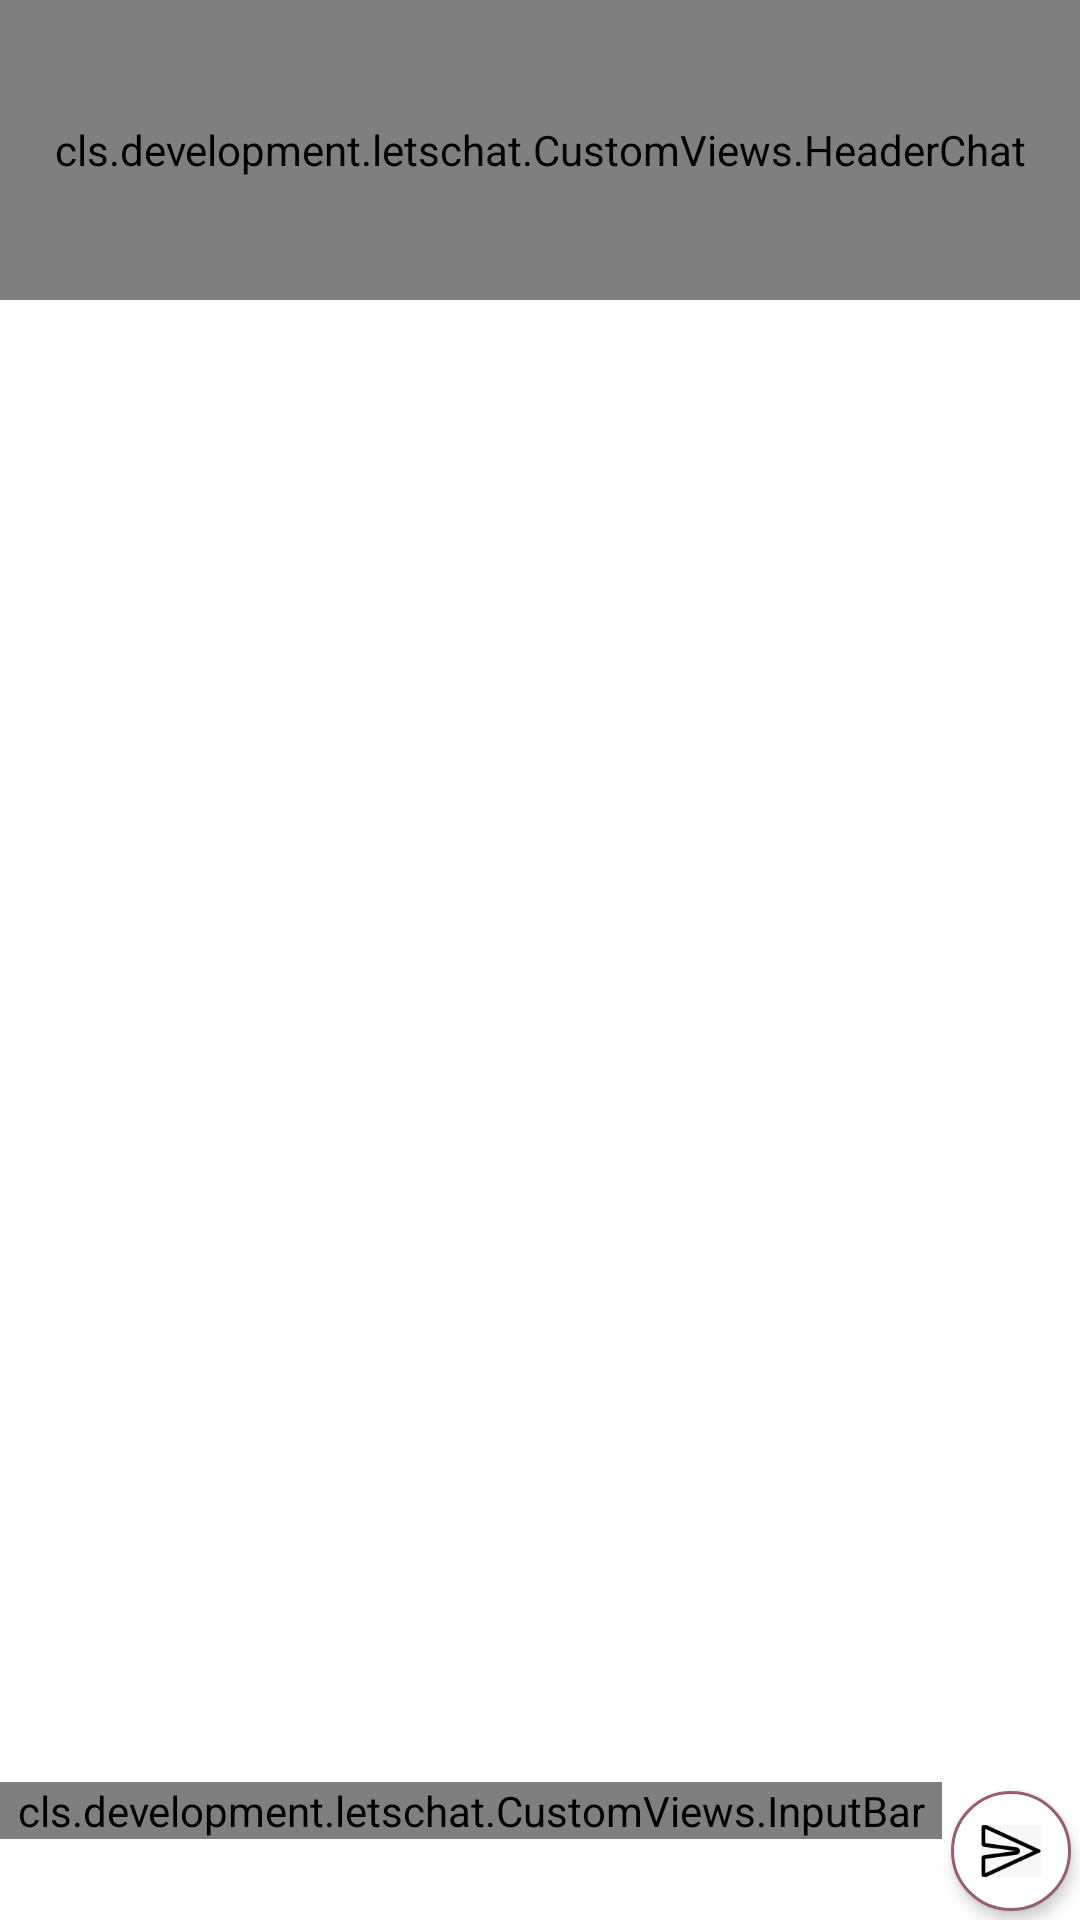

Icon click points for this 1080*1920 phone screenshot, format [x,y]:
send: [1011,1851]
